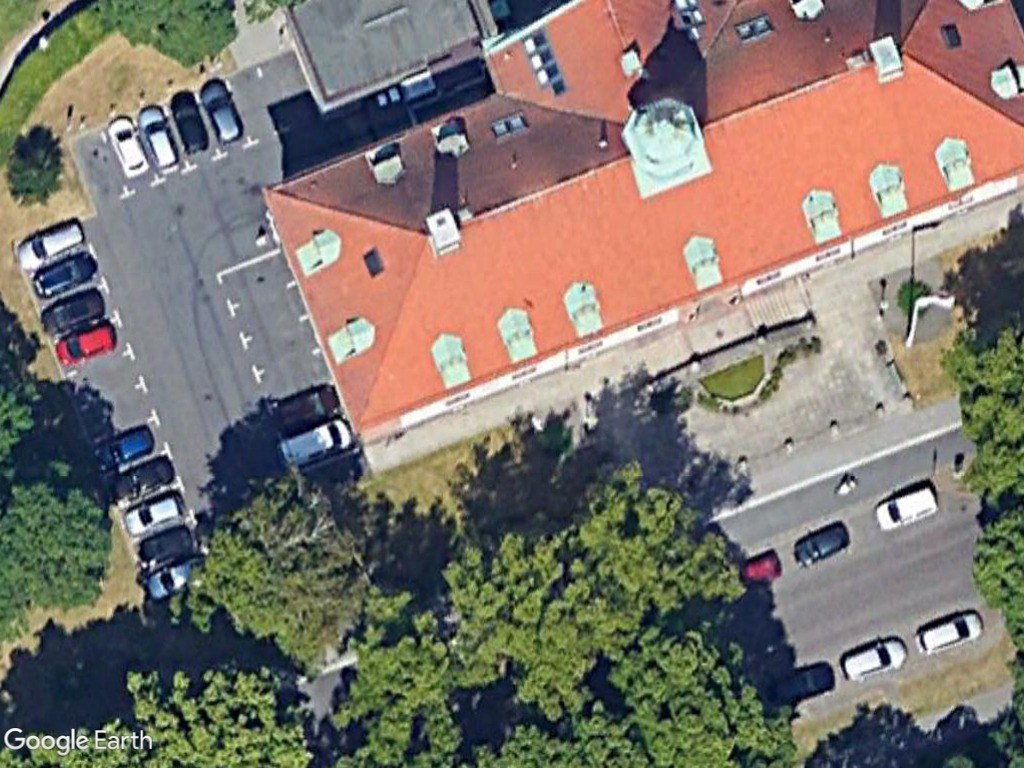car: (12, 212, 88, 276), (131, 98, 187, 179), (268, 376, 342, 435), (30, 243, 100, 302), (111, 447, 179, 507), (912, 606, 988, 659), (37, 283, 108, 339), (50, 316, 121, 371), (119, 482, 186, 538), (840, 631, 912, 682), (197, 77, 246, 151), (104, 114, 154, 184), (788, 517, 851, 571), (167, 87, 213, 159)
van: (275, 409, 358, 474), (870, 481, 945, 535)
